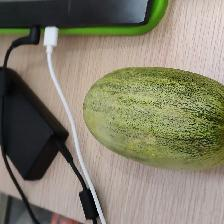gua: (88, 74, 222, 168)
